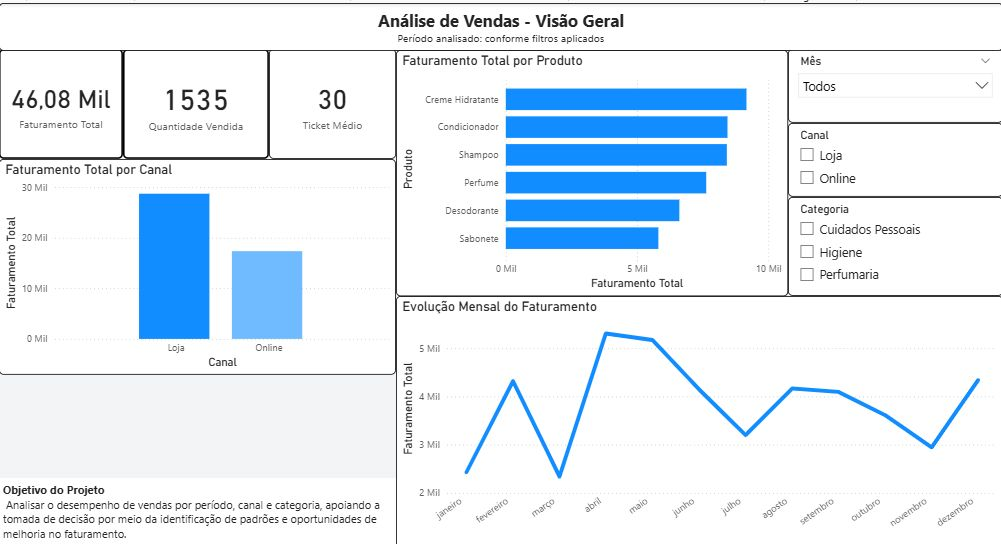

Layout of this report page (visuals, bound fields, positions):
{"tool":"powerbi","page":{"name":"Página 1","canvas":[1280,720],"ordinal":0},"visuals":[{"type":"card","fields":{"Values":["Vendas.Faturamento Total"]},"box":[0,58.2,158.1,140.2],"z":0},{"type":"card","fields":{"Values":["Vendas.Quantidade Vendida"]},"box":[158.1,59.2,186.1,140.2],"z":1000},{"type":"card","fields":{"Values":["Vendas.Ticket Médio"]},"box":[344.2,59.2,161.9,140.2],"z":2000},{"type":"lineChart","title":"Evolução Mensal do Faturamento","fields":{"Category":["Vendas.Data.Variation.Hierarquia de datas.Mês"],"Y":["Vendas.Faturamento Total"]},"box":[506.1,373.5,773.9,320],"z":3000},{"type":"lineClusteredColumnComboChart","fields":{"Category":["Vendas.Canal"],"Y":["Vendas.Faturamento Total"]},"box":[0,198.4,506.1,275.4],"z":4000},{"type":"barChart","fields":{"Category":["Vendas.Produto"],"Y":["Vendas.Faturamento Total"]},"box":[506.1,60.5,499.8,313.6],"z":5000},{"type":"slicer","fields":{"Values":["Vendas.Canal"]},"box":[1005.9,153,274.1,94.3],"z":6000},{"type":"slicer","fields":{"Values":["Vendas.Categoria"]},"box":[1005.9,247.3,274.1,126.2],"z":7000},{"type":"slicer","fields":{"Values":["Vendas.Data.Variation.Hierarquia de datas.Mês"]},"box":[1005.9,58.6,274.1,94.3],"z":8000},{"type":"textbox","box":[0,0,1280,61.2],"z":9000},{"type":"textbox","box":[0,605.6,506.1,88],"z":10000}]}

Visuals, with their boxes in screenshot pixels (x1, y1, x2, y2):
card - Vendas.Faturamento Total: {"left": 3, "top": 45, "right": 125, "bottom": 153}
card - Vendas.Quantidade Vendida: {"left": 125, "top": 46, "right": 269, "bottom": 154}
card - Vendas.Ticket Médio: {"left": 269, "top": 46, "right": 394, "bottom": 154}
"Evolução Mensal do Faturamento" lineChart: {"left": 394, "top": 289, "right": 993, "bottom": 537}
lineClusteredColumnComboChart - Vendas.Canal x Vendas.Faturamento Total: {"left": 3, "top": 153, "right": 394, "bottom": 367}
barChart - Vendas.Produto x Vendas.Faturamento Total: {"left": 394, "top": 47, "right": 781, "bottom": 289}
slicer - Vendas.Canal: {"left": 781, "top": 118, "right": 993, "bottom": 191}
slicer - Vendas.Categoria: {"left": 781, "top": 191, "right": 993, "bottom": 289}
slicer - Vendas.Data.Variation.Hierarquia de datas.Mês: {"left": 781, "top": 45, "right": 993, "bottom": 118}
textbox: {"left": 3, "top": 0, "right": 993, "bottom": 47}
textbox: {"left": 3, "top": 469, "right": 394, "bottom": 537}
